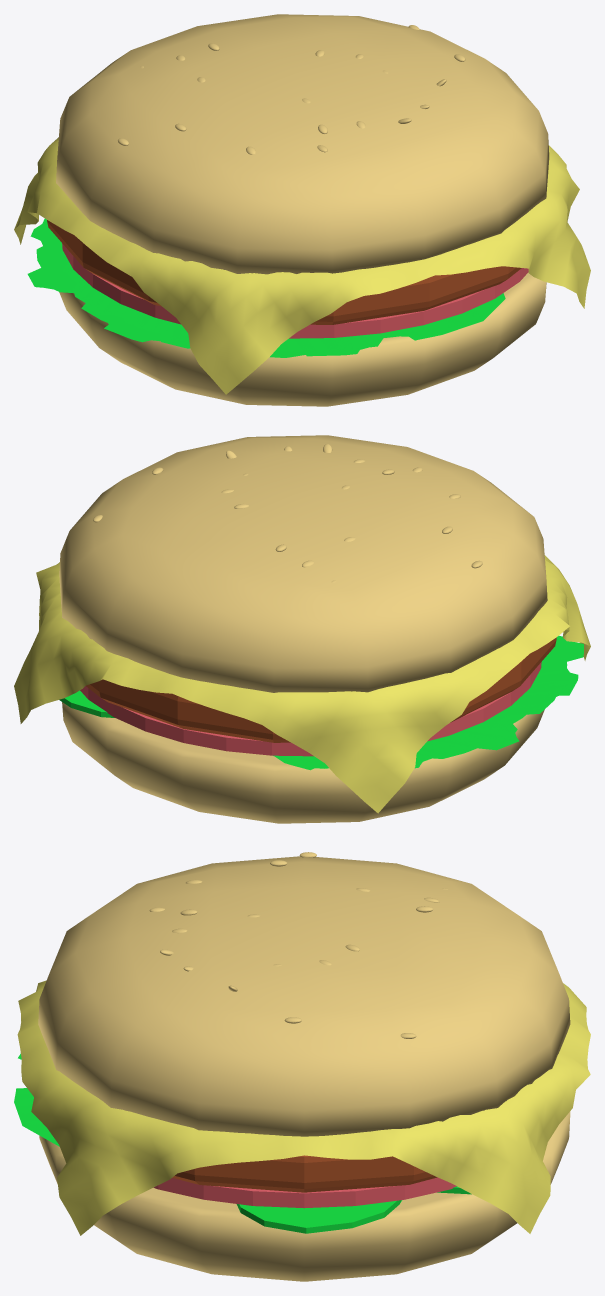
File: Hamburger.fbx
3 renders of one model, top to bottom at view 1: azimuth 30°, elevation 25°; view 2: azimuth 150°, elevation 25°; view 3: azimuth 270°, elevation 25°, orthographic. The views are drawn at different scales.
Parts seen in each view (by area): view 1: Cheese; view 2: Cheese; view 3: Cheese.
Part boxes in pixels (<box>): Cheese: <box>14,14,590,406</box>; Cheese: <box>14,435,590,823</box>; Cheese: <box>14,852,590,1281</box>.
Size of the model in its own units: 206 by 110 by 199.
